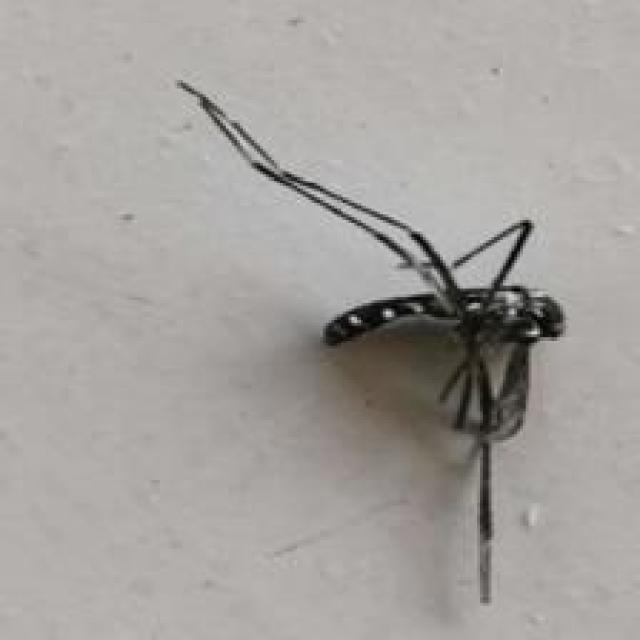Aedes albopictus: (174, 77, 569, 606)
